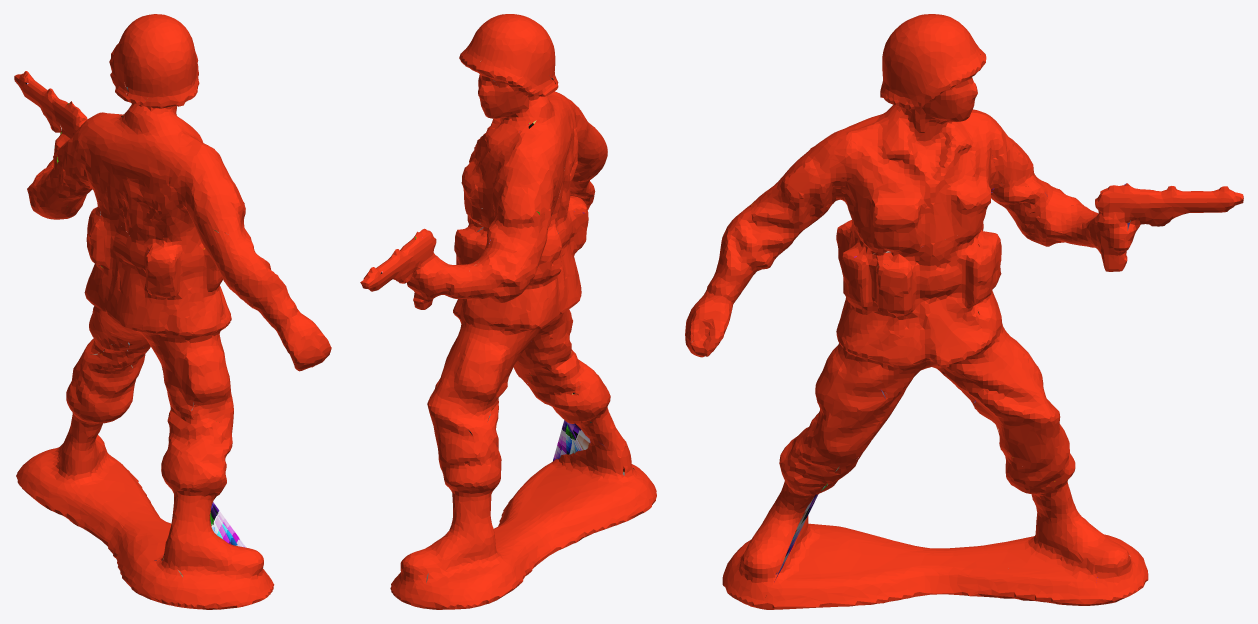
Rendered from soldadoR.fbx.
3 renders of one model, left to right at view 1: azimuth 30°, elevation 25°; view 2: azimuth 150°, elevation 25°; view 3: azimuth 270°, elevation 25°, orthographic. The views are drawn at different scales.
Parts seen in each view (by area): view 1: soldierR, soldierR_cell.017, soldierR_cell.025, soldierR_cell.022, soldierR_cell.024, soldierR_cell.005, soldierR_cell.001, soldierR_cell.009, soldierR_cell.007, soldierR_cell.021, soldierR_cell.023, soldierR_cell.016 (+1 smaller); view 2: soldierR, soldierR_cell.022, soldierR_cell.009, soldierR_cell.001, soldierR_cell.017, soldierR_cell.025, soldierR_cell.005, soldierR_cell.020, soldierR_cell.004, soldierR_cell.024, soldierR_cell.026, soldierR_cell.016 (+4 smaller); view 3: soldierR, soldierR_cell.017, soldierR_cell.025, soldierR_cell.009, soldierR_cell.001, soldierR_cell.022, soldierR_cell.021, soldierR_cell.026, soldierR_cell.018, soldierR_cell.016, soldierR_cell.005, soldierR_cell.007.
Boxes of the visible parts, x1=… form: soldierR: x1=14, y1=14, x2=331, y2=609; soldierR_cell.017: x1=100, y1=35, x2=253, y2=266; soldierR_cell.025: x1=98, y1=219, x2=226, y2=411; soldierR_cell.022: x1=16, y1=360, x2=138, y2=529; soldierR_cell.024: x1=122, y1=16, x2=184, y2=99; soldierR_cell.005: x1=57, y1=112, x2=123, y2=205; soldierR_cell.001: x1=47, y1=107, x2=148, y2=370; soldierR_cell.009: x1=88, y1=485, x2=245, y2=573; soldierR_cell.007: x1=227, y1=255, x2=330, y2=370; soldierR_cell.021: x1=161, y1=415, x2=273, y2=609; soldierR_cell.023: x1=27, y1=154, x2=87, y2=216; soldierR_cell.016: x1=24, y1=85, x2=61, y2=147; soldierR: x1=360, y1=15, x2=656, y2=609; soldierR_cell.022: x1=424, y1=438, x2=535, y2=609; soldierR_cell.009: x1=494, y1=383, x2=622, y2=564; soldierR_cell.001: x1=421, y1=209, x2=561, y2=436; soldierR_cell.017: x1=459, y1=56, x2=593, y2=223; soldierR_cell.025: x1=453, y1=210, x2=588, y2=372; soldierR_cell.005: x1=493, y1=119, x2=565, y2=216; soldierR_cell.020: x1=434, y1=418, x2=475, y2=487; soldierR_cell.004: x1=532, y1=343, x2=576, y2=391; soldierR_cell.024: x1=495, y1=14, x2=557, y2=83; soldierR_cell.026: x1=390, y1=550, x2=427, y2=598; soldierR_cell.016: x1=381, y1=246, x2=433, y2=309; soldierR: x1=685, y1=14, x2=1243, y2=609; soldierR_cell.017: x1=745, y1=39, x2=997, y2=266; soldierR_cell.025: x1=823, y1=226, x2=985, y2=422; soldierR_cell.009: x1=773, y1=452, x2=1034, y2=609; soldierR_cell.001: x1=973, y1=186, x2=1132, y2=468; soldierR_cell.022: x1=978, y1=478, x2=1134, y2=605; soldierR_cell.021: x1=725, y1=422, x2=840, y2=606; soldierR_cell.026: x1=1095, y1=541, x2=1140, y2=601; soldierR_cell.018: x1=814, y1=360, x2=887, y2=461; soldierR_cell.016: x1=1114, y1=188, x2=1237, y2=271; soldierR_cell.005: x1=965, y1=109, x2=1026, y2=184; soldierR_cell.007: x1=685, y1=217, x2=760, y2=353.
Size of the model in its own units: 29.96 by 99.95 by 88.33.
